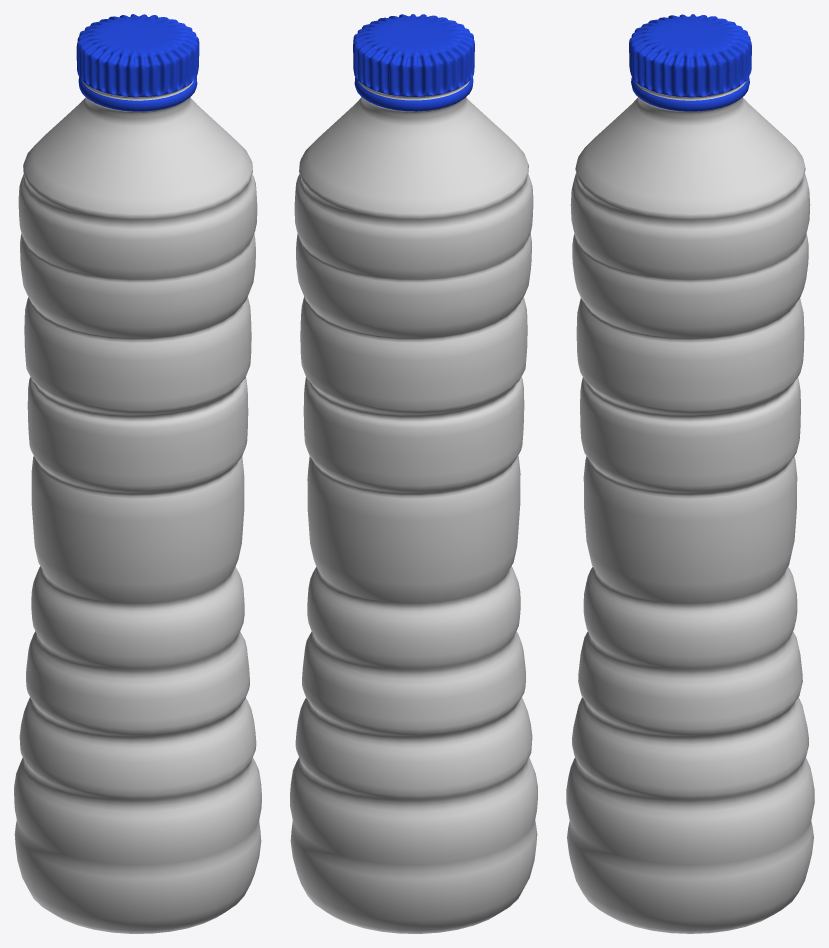
The model's file is bottle.fbx.
3 views of the same model, side by side, from view 1: azimuth 30°, elevation 25°; view 2: azimuth 150°, elevation 25°; view 3: azimuth 270°, elevation 25° (orthographic).
Visible parts, largest first — view 1: Plane.001; view 2: Plane.001; view 3: Plane.001.
Part boxes in pixels (bbox=[...]): Plane.001: bbox=[14, 14, 261, 933]; Plane.001: bbox=[290, 14, 537, 933]; Plane.001: bbox=[566, 14, 814, 933].
Bounding box in the file's own units: 25.52 × 98 × 25.52.
